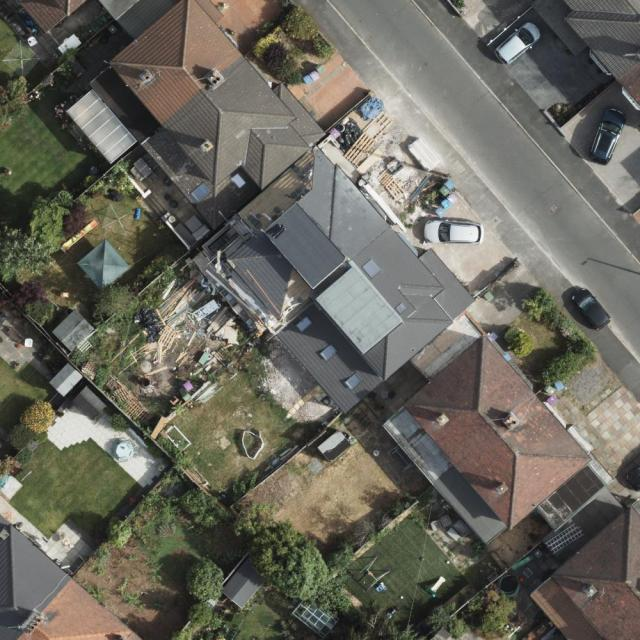roof: (98, 0, 608, 546), (0, 523, 143, 640), (530, 496, 640, 640), (565, 0, 640, 114)
skylight: (190, 181, 213, 203), (319, 344, 339, 363), (362, 257, 381, 277), (344, 372, 363, 391), (295, 315, 314, 333), (229, 173, 247, 189), (395, 302, 407, 314)
